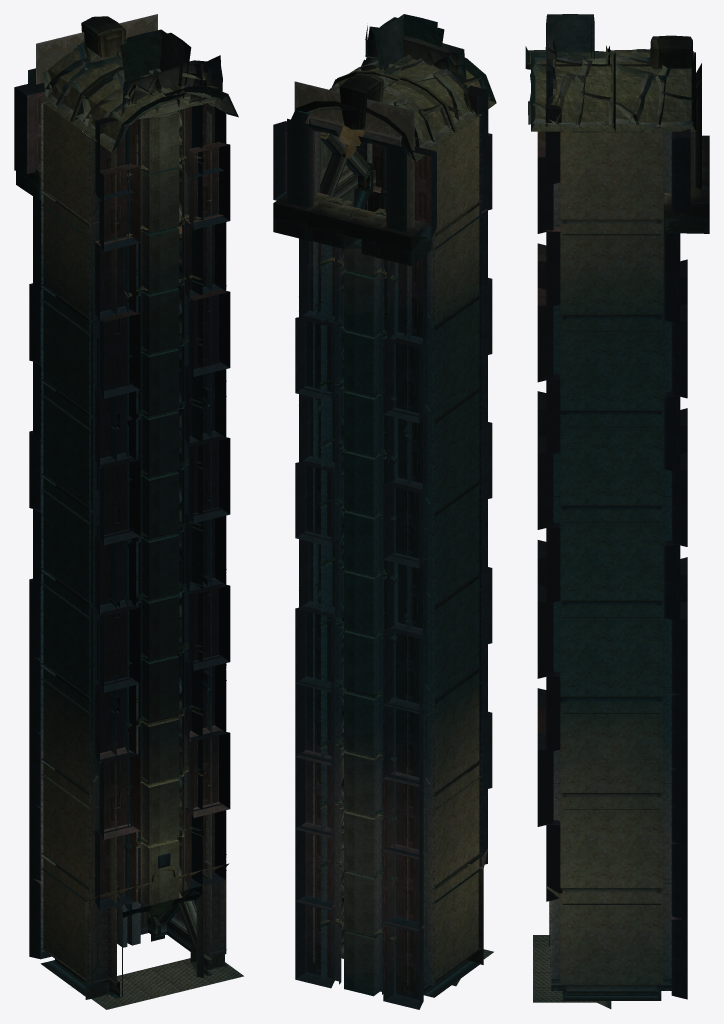
Rendered from ate-elev.glb.
The picture shows the model from 3 angles, left to right: view 1: azimuth 30°, elevation 25°; view 2: azimuth 150°, elevation 25°; view 3: azimuth 270°, elevation 25°; orthographic projection. The views are drawn at different scales.
Parts seen in each view (by area): view 1: Mesh_0; view 2: Mesh_0; view 3: Mesh_0.
Boxes of the visible parts, x1,y1,x2,y2 form: Mesh_0: (14, 14, 243, 1009); Mesh_0: (273, 14, 496, 1009); Mesh_0: (525, 14, 709, 1008).
Bounding box in the file's own units: 25.44 × 131 × 22.99.
Materials: 34 (34 with a texture image).
